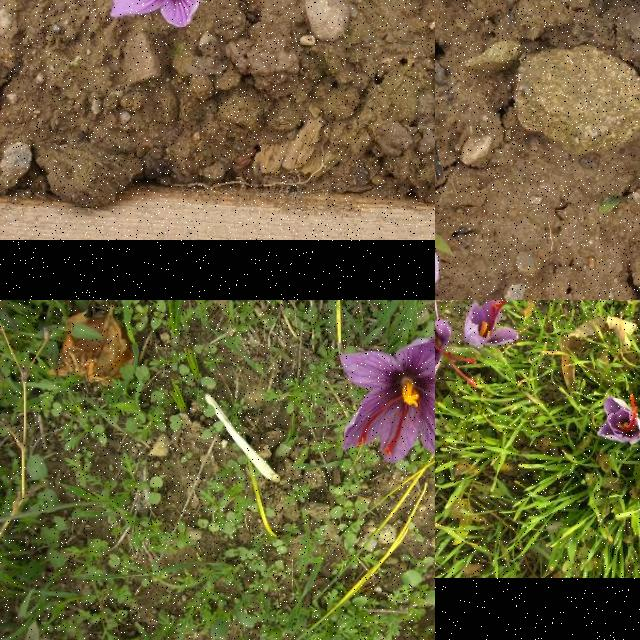flower: (339, 333, 435, 476), (435, 300, 478, 388), (464, 300, 519, 348), (598, 395, 640, 443)
